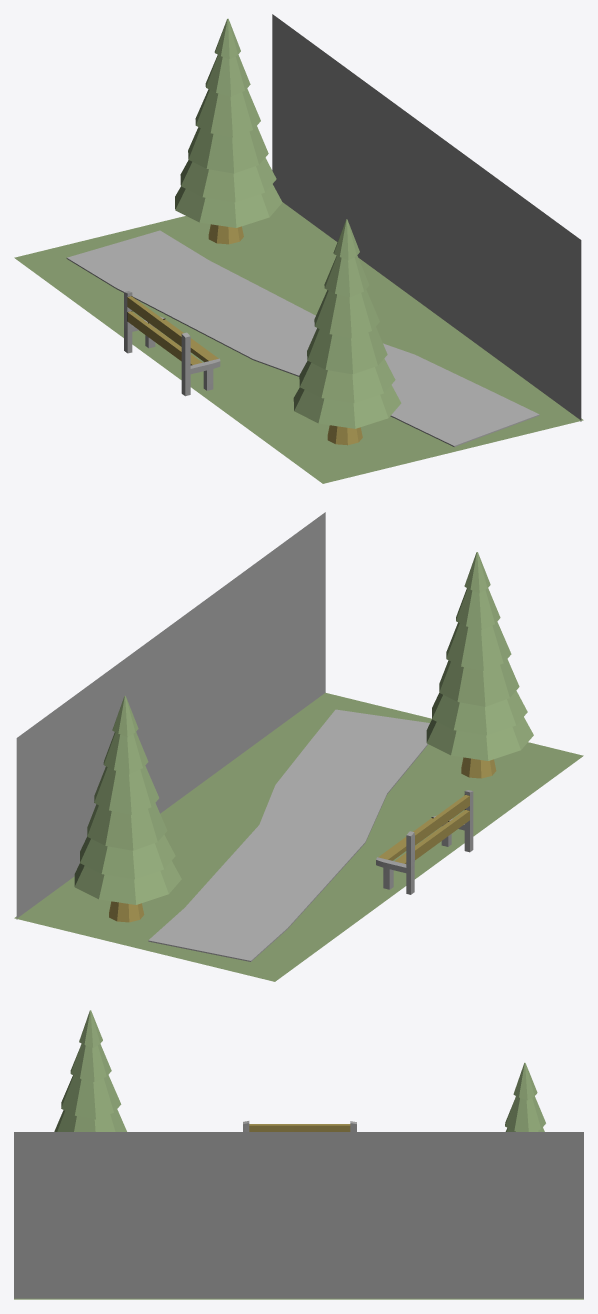
Rendered from the-park.fbx.
3 renders of one model, top to bottom at view 1: azimuth 30°, elevation 25°; view 2: azimuth 150°, elevation 25°; view 3: azimuth 270°, elevation 25°, orthographic. The views are drawn at different scales.
Visible parts, largest first — view 1: pPlane2, pPlane1, pCube1, Cylinder, Cylinder1, ParkBench_01_0007:pCube1; view 2: pPlane2, pPlane1, pCube1, Cylinder, Cylinder1, ParkBench_01_0007:pCube1; view 3: pPlane2, Cylinder, Cylinder1, pPlane1, ParkBench_01_0007:pCube1.
Boxes of the visible parts, x1,y1,x2,y2 form: pPlane2: (272, 14, 581, 421); pPlane1: (14, 202, 583, 483); pCube1: (66, 230, 539, 446); Cylinder: (293, 219, 401, 445); Cylinder1: (175, 18, 282, 244); ParkBench_01_0007:pCube1: (124, 291, 220, 396); pPlane2: (16, 512, 325, 919); pPlane1: (14, 692, 583, 981); pCube1: (148, 709, 429, 961); Cylinder: (426, 552, 533, 778); Cylinder1: (74, 696, 181, 922); ParkBench_01_0007:pCube1: (376, 790, 473, 894); pPlane2: (14, 1132, 583, 1298); Cylinder: (54, 1010, 126, 1131); Cylinder1: (505, 1062, 545, 1131); pPlane1: (14, 1298, 583, 1299); ParkBench_01_0007:pCube1: (243, 1121, 356, 1131).
Bounding box in the file's own units: 20.82 × 15.89 × 40.58.
